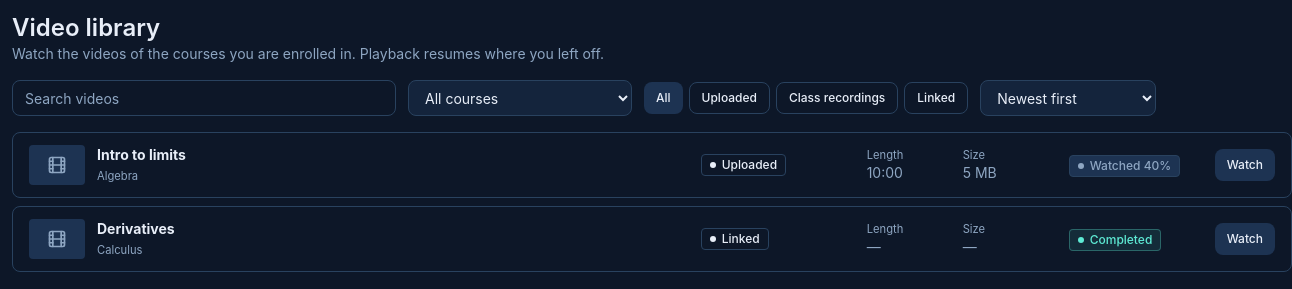
Test: VideoLibraryPage as a learner › searches and filters by course and type
Check: the text "Derivatives" is shown, box left=97, top=219, right=175, bottom=239
Type "deriv" into the search field labelled "Search videos" at (204, 98), box left=12, top=80, right=396, bottom=116
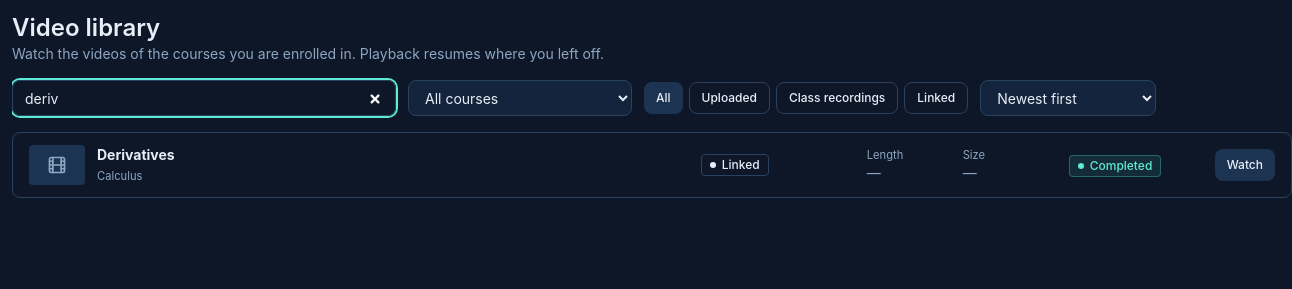
Check: the text "Intro to limits" is gone
Clear the search field named "Search videos" at (204, 98), box left=12, top=80, right=396, bottom=116
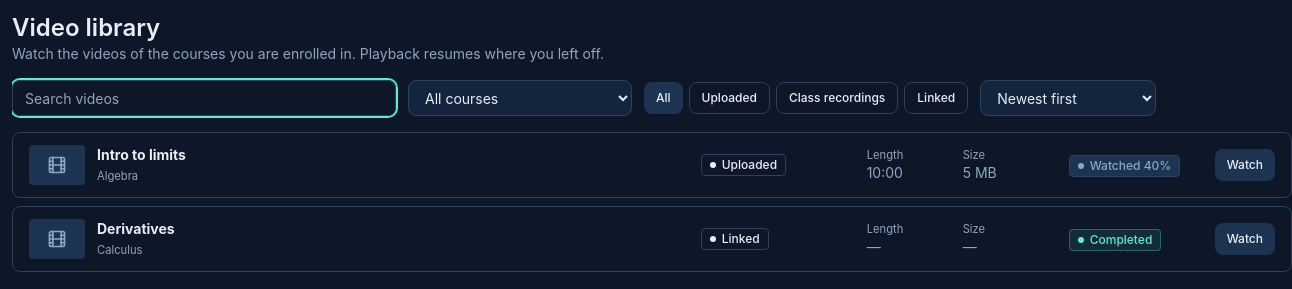
Select "Algebra" in the dropdown named "Filter by course" at (520, 98), box left=408, top=80, right=632, bottom=116
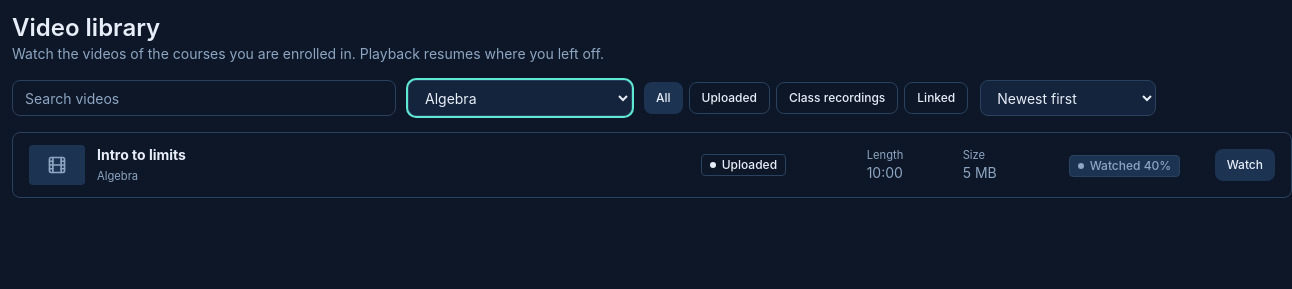
Check: the text "Derivatives" is gone
Select "All courses" in the dropdown named "Filter by course" at (520, 98), box left=408, top=80, right=632, bottom=116
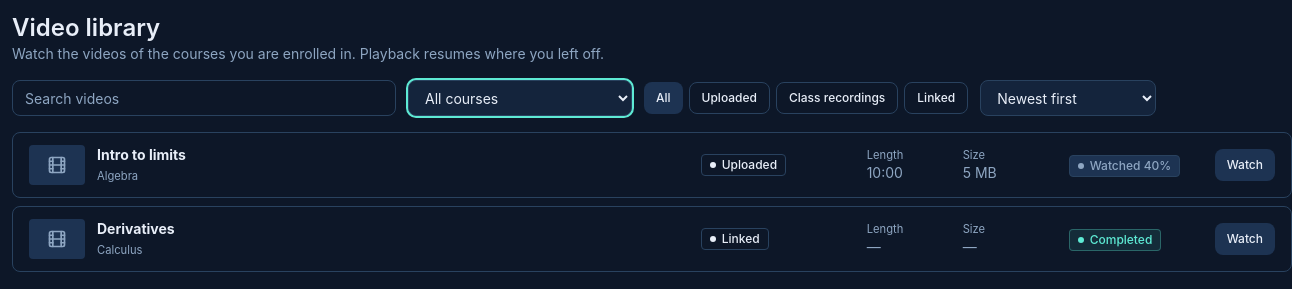
Click the button "Linked" at (936, 98), box left=904, top=82, right=968, bottom=114
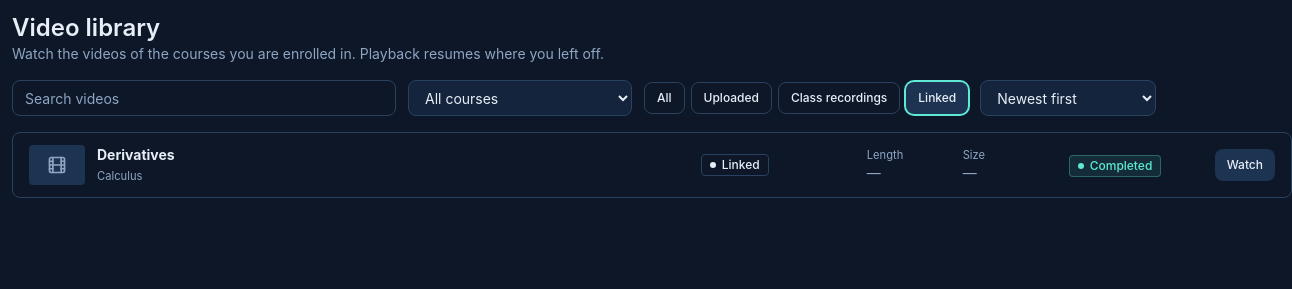
Check: the text "Derivatives" is shown, box left=97, top=145, right=175, bottom=165
Check: the text "Intro to limits" is gone
